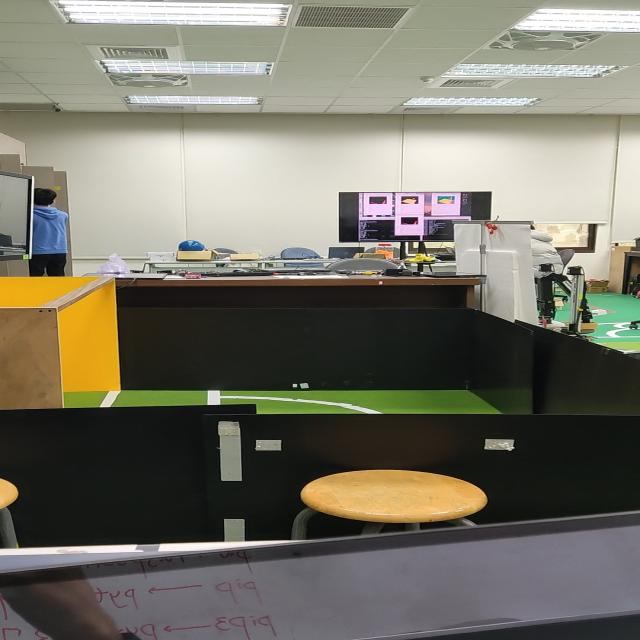person: (32, 183, 71, 280)
